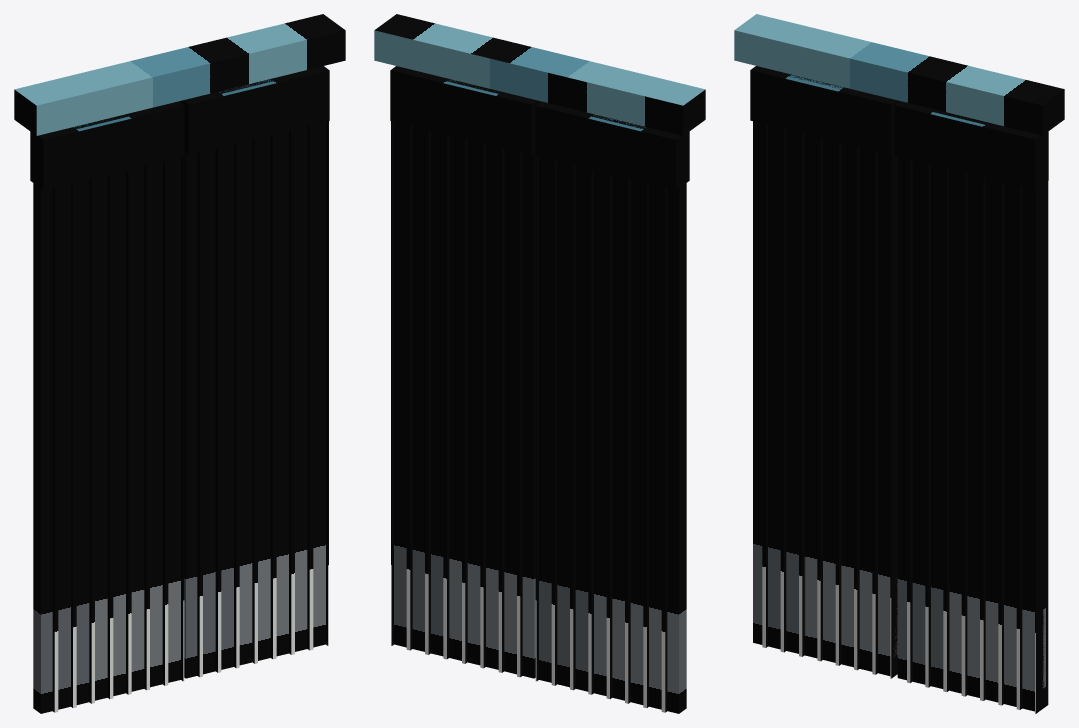
File: lab_privacy_curtain.obj
3 views of the same model, side by side, from view 1: azimuth 30°, elevation 25°; view 2: azimuth 150°, elevation 25°; view 3: azimuth 330°, elevation 25° (orthographic).
Size of the model in its own units: 0.459 by 0.875 by 0.0574.
